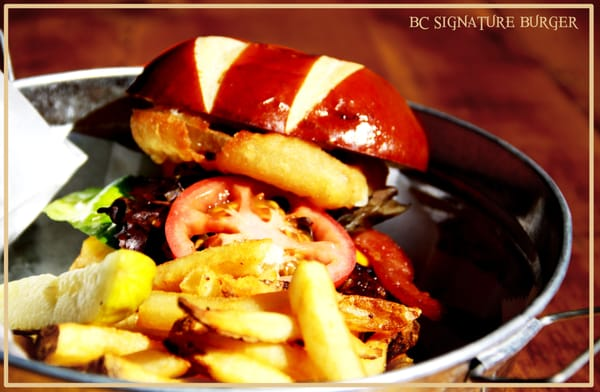sushi: (9, 11, 582, 385)
